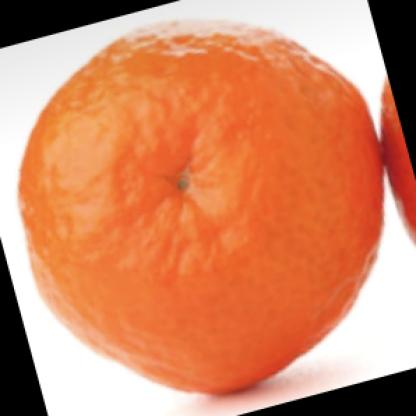fresh: (19, 25, 384, 391)
